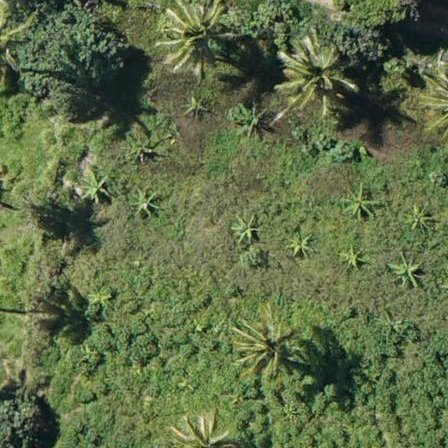palm_tree: (165, 1, 229, 72), (283, 39, 347, 103), (237, 314, 295, 373)
